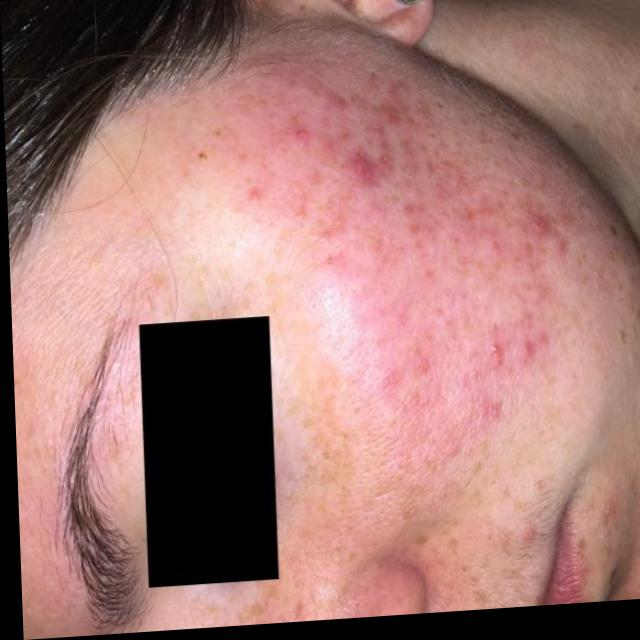Rosacea: (267, 66, 567, 461)
